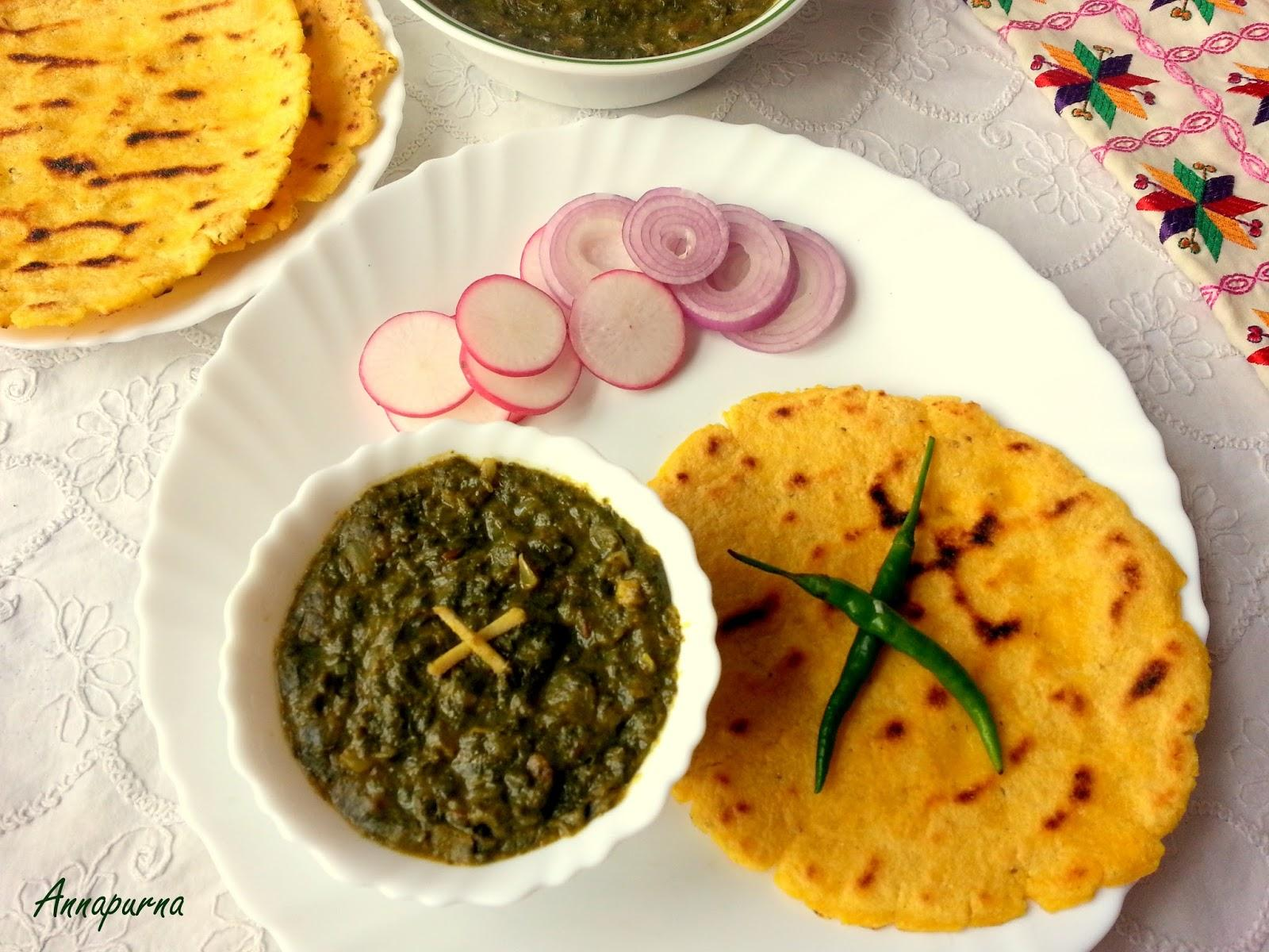saag: (288, 476, 673, 857)
